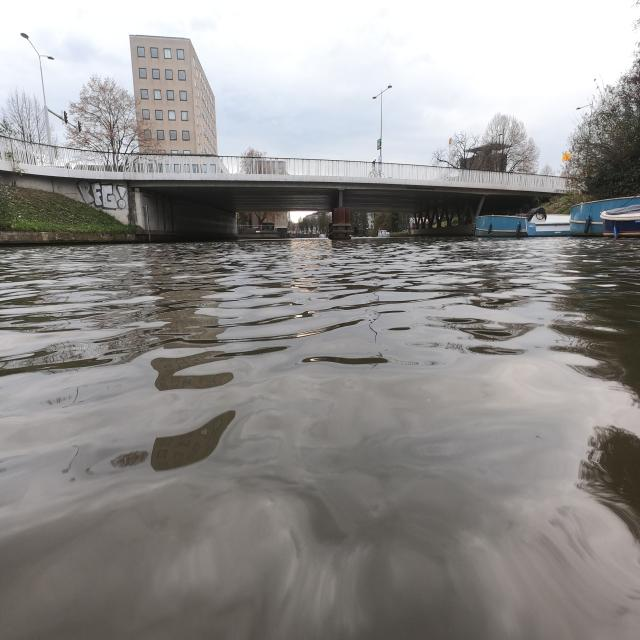dock: (2, 230, 114, 244)
grass: (8, 186, 142, 238)
sky: (0, 6, 632, 160)
tree: (562, 52, 638, 198)
water: (8, 232, 636, 630)
